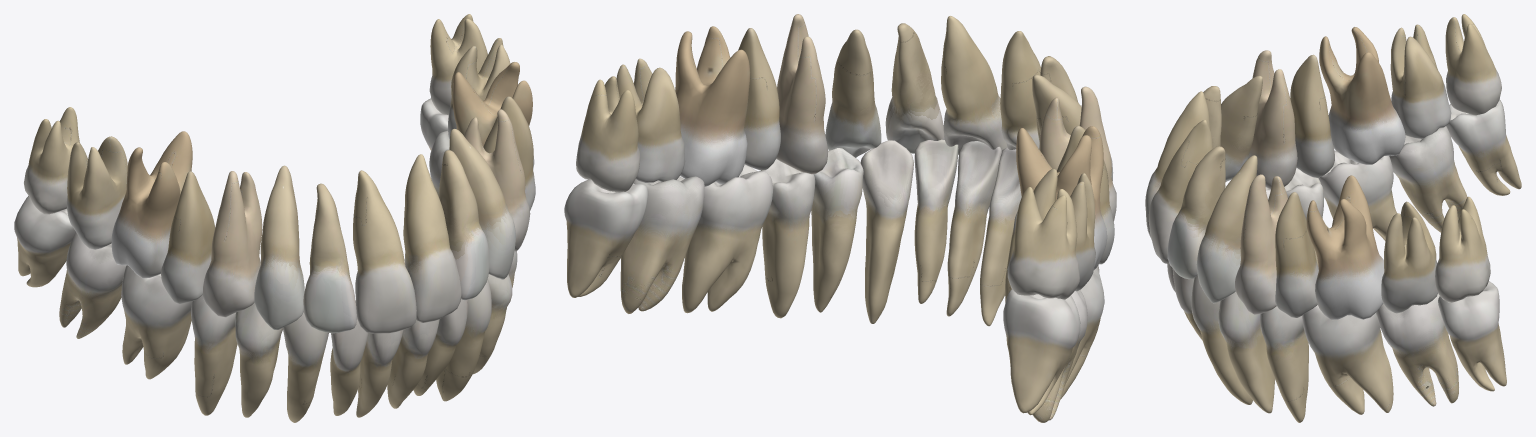
File: dental-permanent-dundee-v1.glb
3 views of the same model, side by side, from view 1: azimuth 30°, elevation 25°; view 2: azimuth 150°, elevation 25°; view 3: azimuth 270°, elevation 25° (orthographic). The views are drawn at different scales.
Parts seen in each view (by area): view 1: Tooth_11, Tooth_16, Tooth_21, Tooth_14, Tooth_13, Tooth_17, Tooth_46, Tooth_12, Tooth_15, Tooth_22, Tooth_47, Tooth_23 (+18 smaller); view 2: Tooth_26, Tooth_36, Tooth_37, Tooth_48, Tooth_38, Tooth_33, Tooth_18, Tooth_24, Tooth_21, Tooth_34, Tooth_35, Tooth_28 (+16 smaller); view 3: Tooth_26, Tooth_16, Tooth_36, Tooth_37, Tooth_17, Tooth_24, Tooth_27, Tooth_47, Tooth_23, Tooth_38, Tooth_14, Tooth_28 (+15 smaller).
Part boxes in pixels (box(x1,y1,x2,y2)): Tooth_11: box(353, 170, 416, 333); Tooth_16: box(111, 131, 192, 278); Tooth_21: box(403, 154, 461, 322); Tooth_14: box(202, 171, 262, 317); Tooth_13: box(254, 165, 304, 329); Tooth_17: box(66, 136, 127, 249); Tooth_46: box(121, 265, 191, 379); Tooth_12: box(303, 183, 356, 333); Tooth_15: box(161, 171, 215, 303); Tooth_22: box(439, 150, 489, 300); Tooth_47: box(59, 232, 126, 338); Tooth_23: box(449, 128, 515, 279); Tooth_26: box(675, 26, 750, 186); Tooth_36: box(682, 164, 772, 313); Tooth_37: box(620, 176, 704, 313); Tooth_48: box(1003, 289, 1080, 415); Tooth_38: box(564, 179, 648, 297); Tooth_33: box(860, 140, 913, 323); Tooth_18: box(1007, 187, 1079, 299); Tooth_24: box(776, 14, 827, 174); Tooth_21: box(941, 16, 1007, 154); Tooth_34: box(811, 148, 863, 312); Tooth_35: box(761, 159, 815, 318); Tooth_28: box(576, 76, 640, 192); Tooth_26: box(1306, 175, 1384, 320); Tooth_16: box(1319, 27, 1405, 164); Tooth_36: box(1302, 305, 1393, 414); Tooth_37: box(1376, 293, 1458, 406); Tooth_17: box(1390, 24, 1451, 138); Tooth_24: box(1235, 174, 1287, 314); Tooth_27: box(1381, 201, 1437, 313); Tooth_47: box(1389, 126, 1467, 232); Tooth_23: box(1196, 155, 1257, 303); Tooth_38: box(1438, 281, 1506, 391); Tooth_14: box(1248, 50, 1297, 189); Tooth_28: box(1435, 196, 1490, 302).
Size of the model in its own units: 2.59 by 1.47 by 1.91.
Materials: 16 (16 with a texture image).
